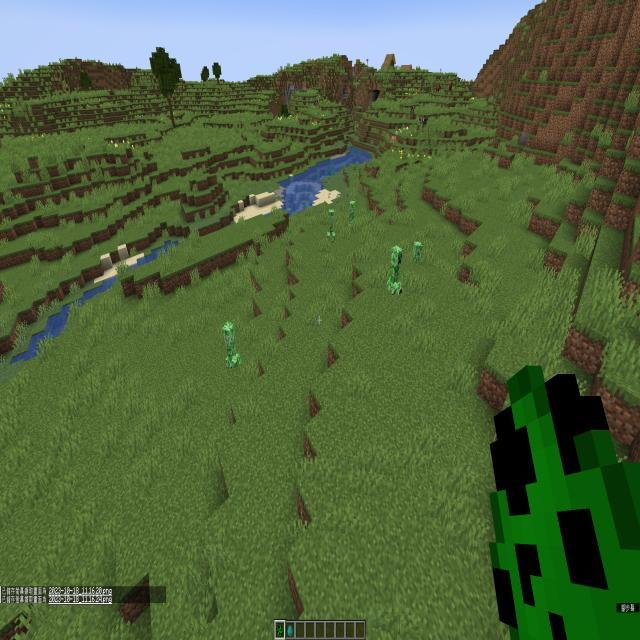Creeper: (214, 307, 248, 385), (407, 224, 429, 282), (322, 195, 339, 258), (344, 189, 364, 238), (387, 243, 403, 302)
